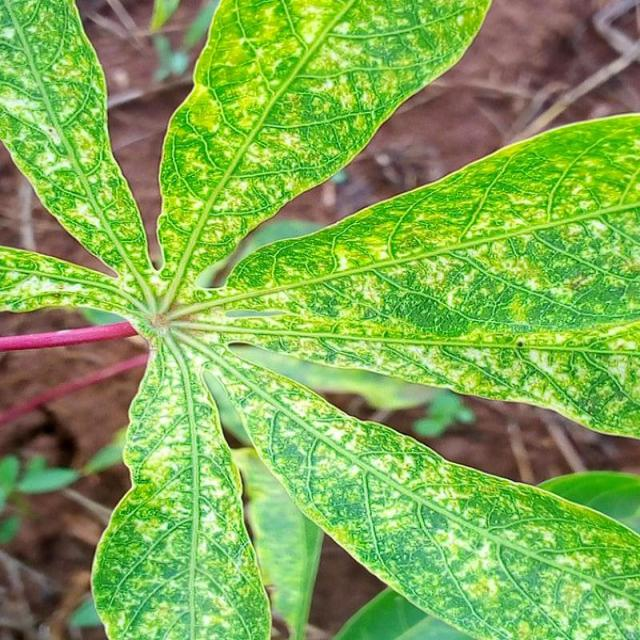cassava leaf: (0, 0, 638, 638), (154, 0, 491, 292)
